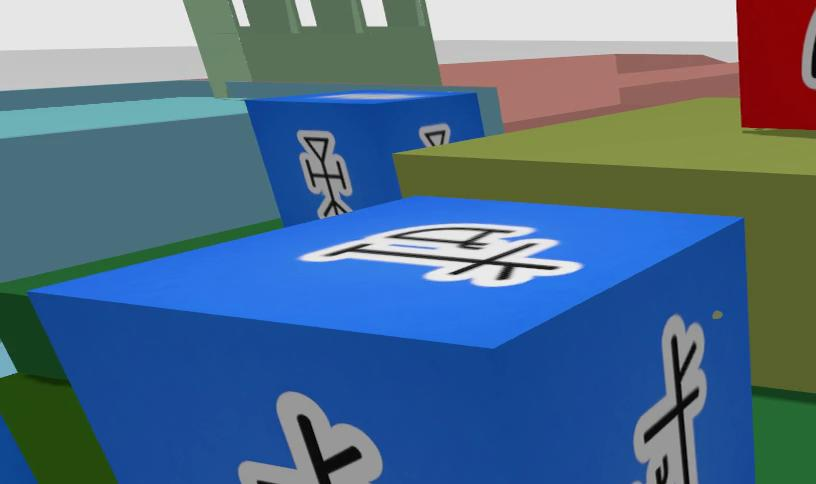KFS_FAKE: (737, 0, 816, 130), (800, 4, 816, 87)
KFS_REAL: (37, 196, 754, 484), (246, 90, 481, 225), (301, 223, 582, 286), (239, 391, 381, 484), (631, 315, 706, 484), (297, 131, 351, 215), (670, 414, 671, 420)
